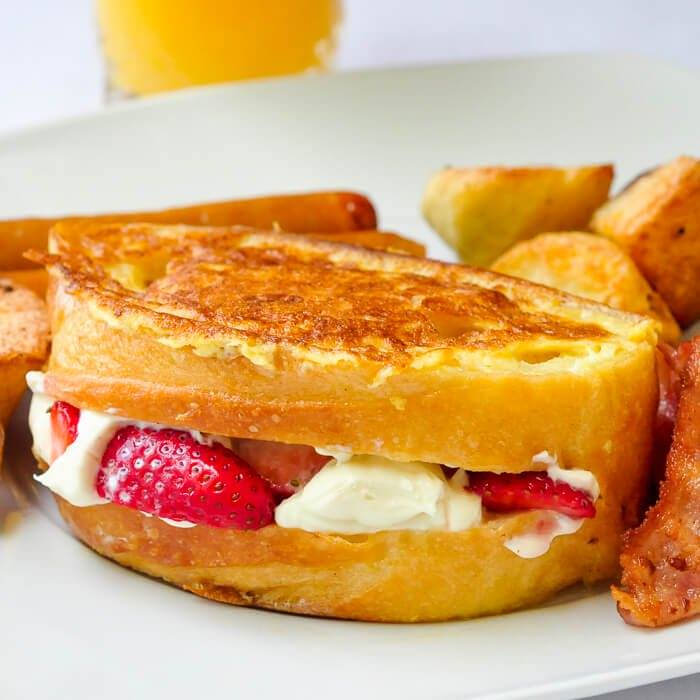slice of bread: (42, 220, 656, 450), (43, 449, 641, 612)
